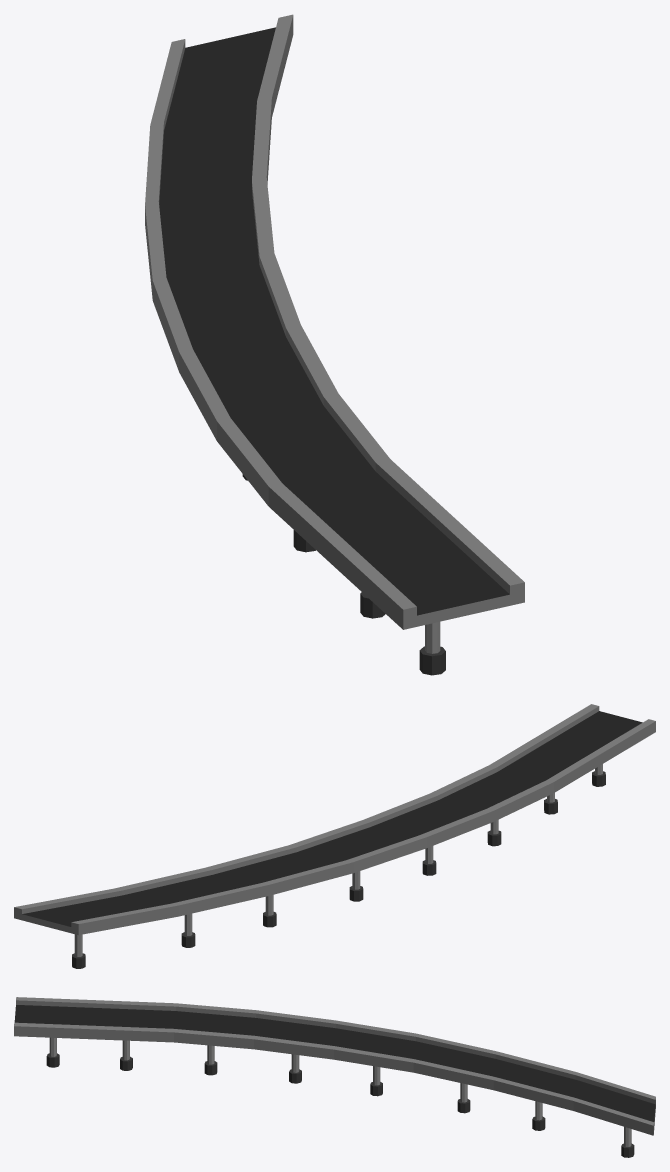
Rendered from Bridge.fbx.
3 views of the same model, one above another, from view 1: azimuth 30°, elevation 25°; view 2: azimuth 150°, elevation 25°; view 3: azimuth 270°, elevation 25° (orthographic). The views are drawn at different scales.
Visible parts, largest first — view 1: Plane.001; view 2: Plane.001; view 3: Plane.001.
Boxes of the visible parts, <box> form: Plane.001: <box>145,14,524,675</box>; Plane.001: <box>14,704,655,968</box>; Plane.001: <box>14,997,655,1157</box>.
Bounding box in the file's own units: 34.51 × 6.47 × 72.74.
1 material, 1 textured.
